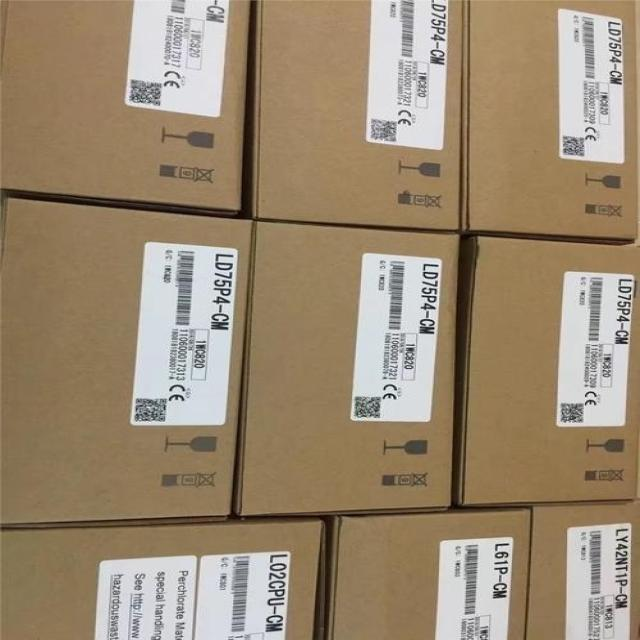box: (0, 197, 255, 529), (236, 220, 461, 517), (1, 0, 250, 216), (454, 233, 640, 507), (252, 0, 466, 233), (468, 0, 640, 242), (0, 519, 328, 640), (324, 507, 531, 640), (526, 505, 640, 640)
